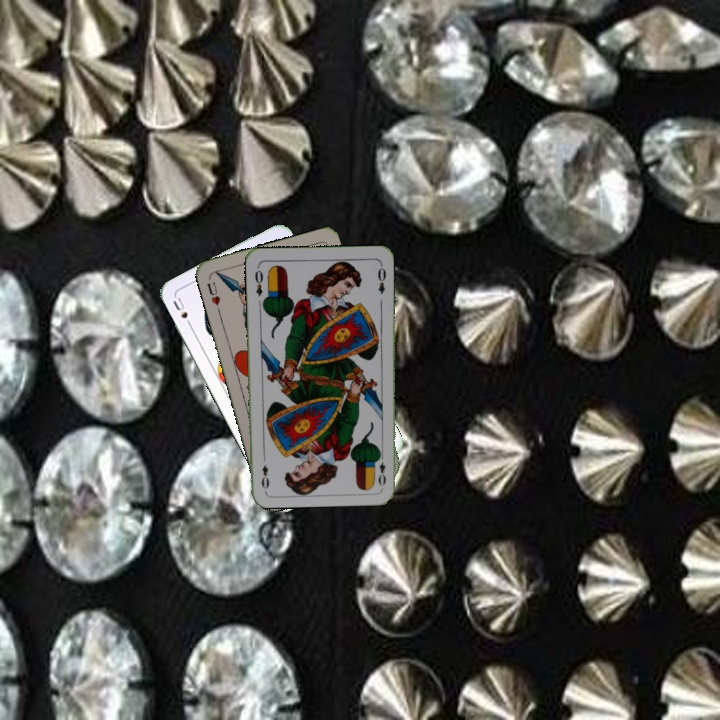EO: (373, 449, 388, 489), (251, 263, 266, 299)
HU: (203, 278, 223, 314)
SU: (169, 293, 195, 331)
